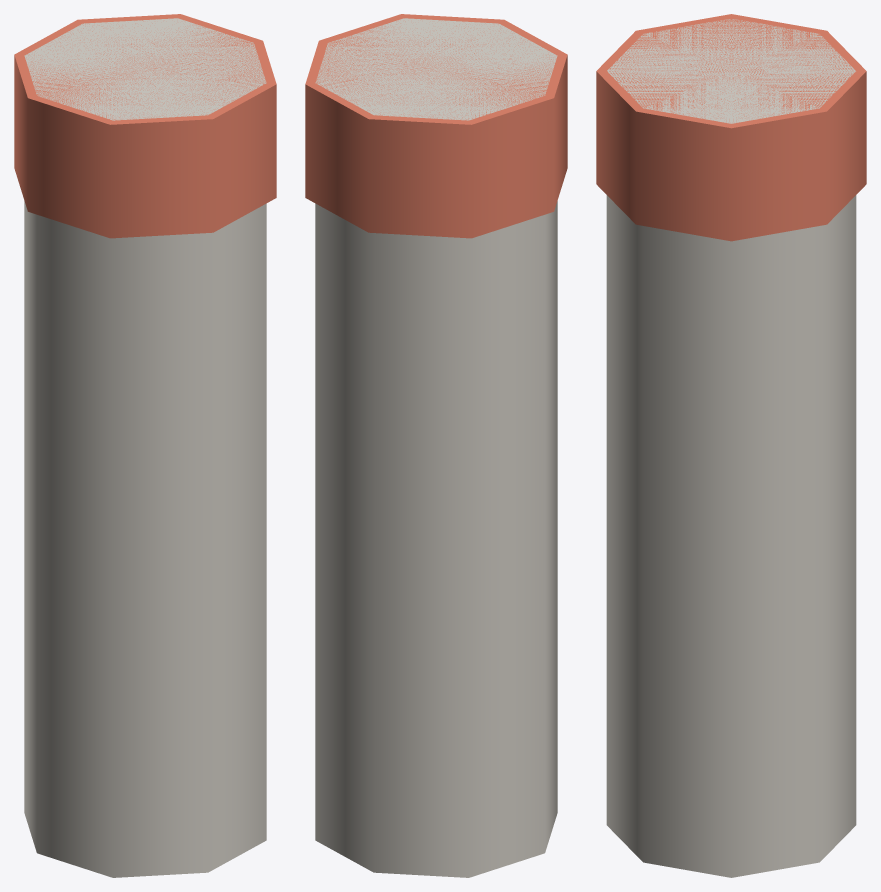
File: bollard.glb
The picture shows the model from 3 angles, left to right: view 1: azimuth 30°, elevation 25°; view 2: azimuth 150°, elevation 25°; view 3: azimuth 270°, elevation 25°; orthographic projection.
Parts seen in each view (by area): view 1: bollard; view 2: bollard; view 3: bollard.
Part boxes in pixels (bbox=[...]): bollard: bbox=[14, 14, 276, 877]; bollard: bbox=[305, 14, 567, 877]; bollard: bbox=[596, 14, 866, 877].
Bounding box in the file's own units: 0.26 × 0.8 × 0.26.
